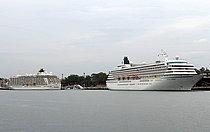Ship: (106, 53, 209, 94)
